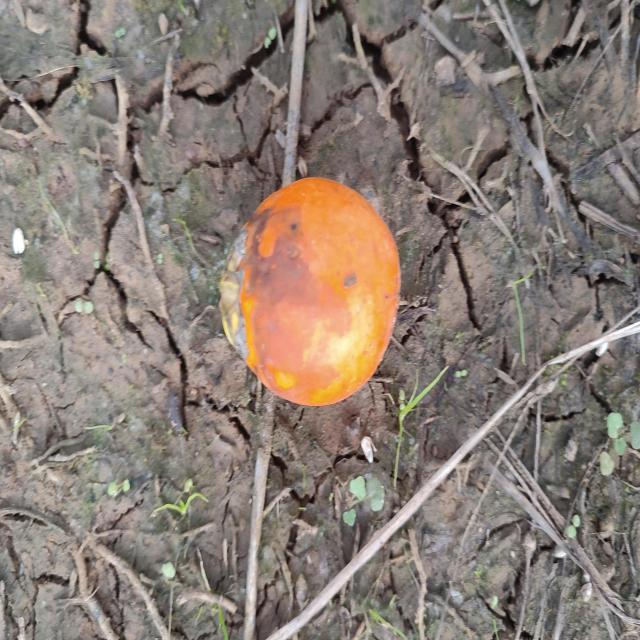good: (219, 176, 402, 409)
